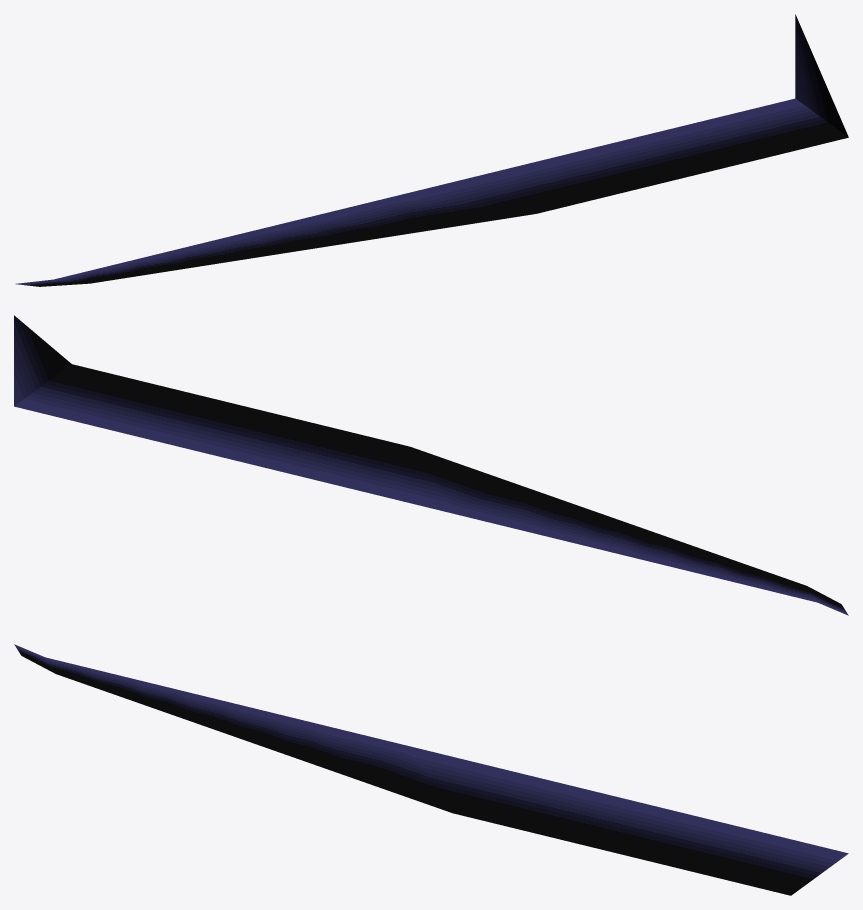
3 renders of one model, top to bottom at view 1: azimuth 30°, elevation 25°; view 2: azimuth 150°, elevation 25°; view 3: azimuth 330°, elevation 25°, orthographic. The views are drawn at different scales.
Parts seen in each view (by area): view 1: Joint_0_Object_0; view 2: Joint_0_Object_0; view 3: Joint_0_Object_0.
Part boxes in pixels (<box>): Joint_0_Object_0: <box>15,14,848,286</box>; Joint_0_Object_0: <box>14,315,848,615</box>; Joint_0_Object_0: <box>14,644,848,895</box>.
Bounding box in the file's own units: 1915 × 199 × 251.
Materials: 1 (1 with a texture image).
